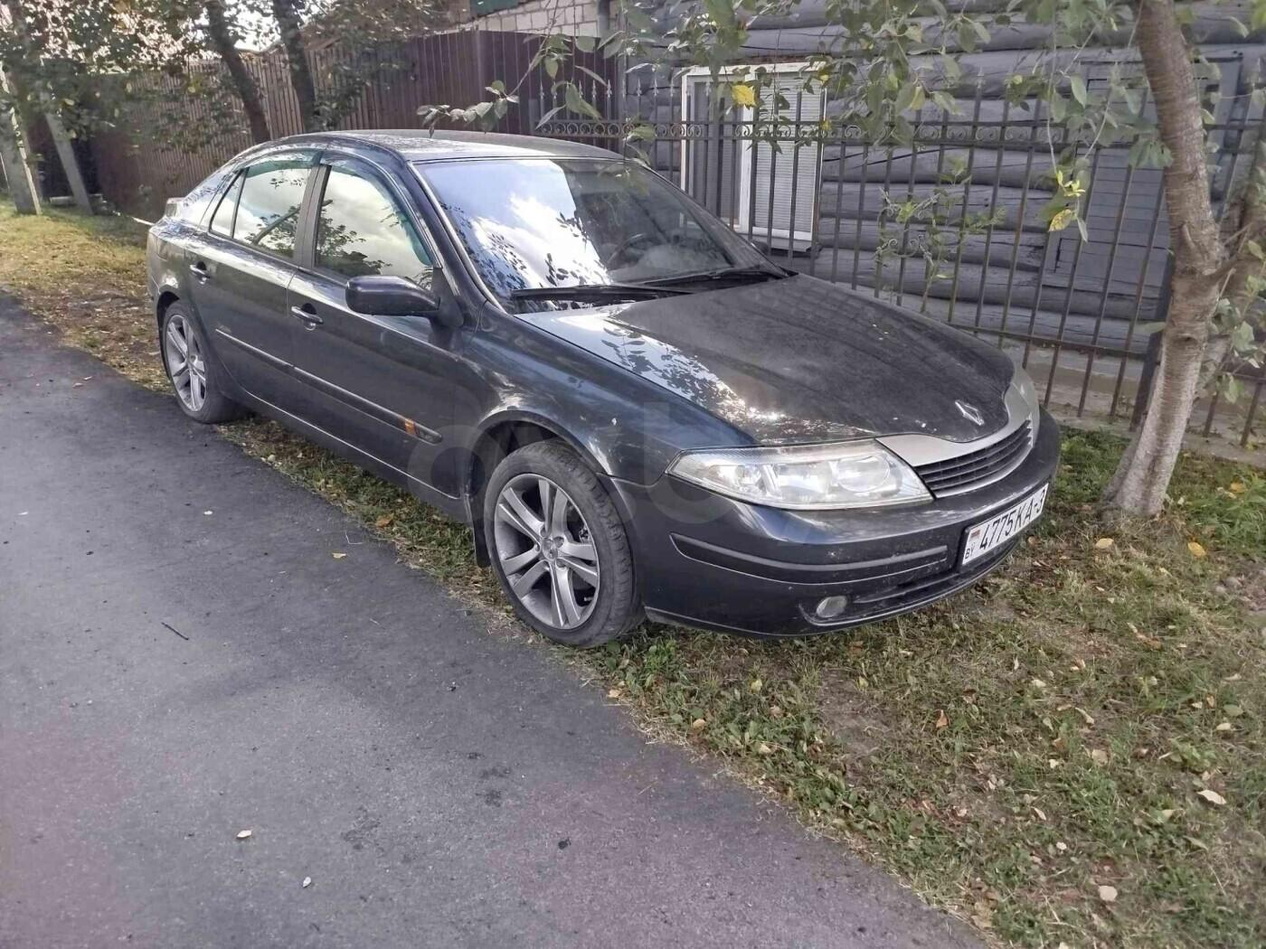Laguna_2001-2005: (146, 129, 1060, 646)
